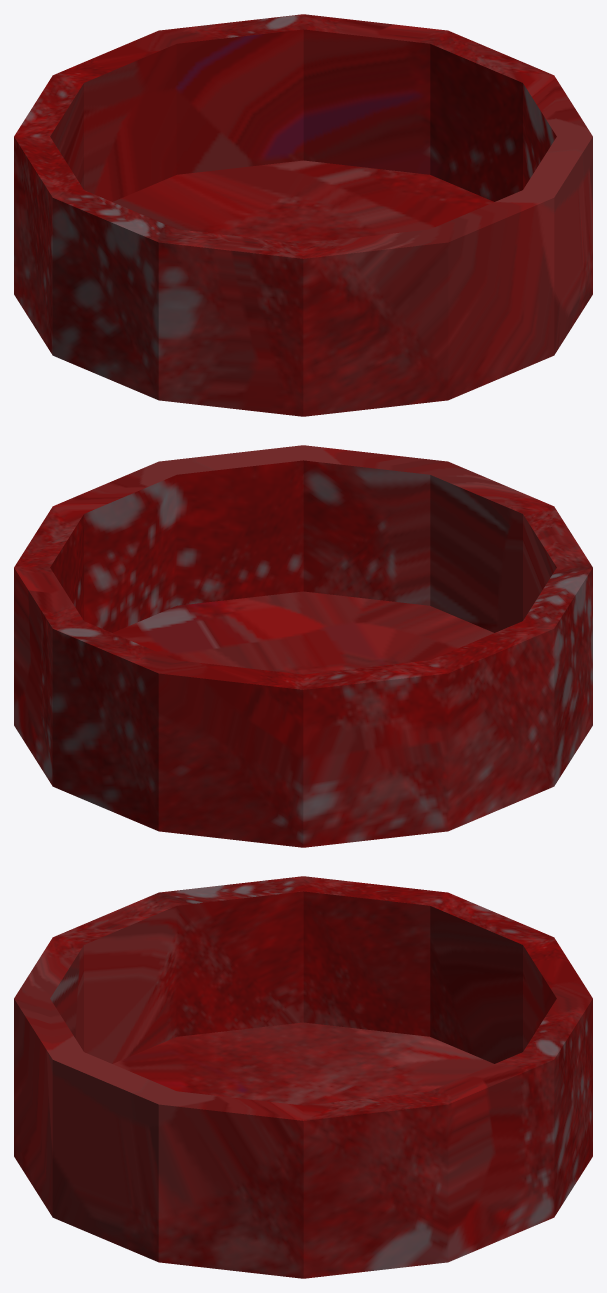
Rendered from SM_Aeropress_Cap.fbx.
3 views of the same model, one above another, from view 1: azimuth 30°, elevation 25°; view 2: azimuth 150°, elevation 25°; view 3: azimuth 270°, elevation 25° (orthographic).
Parts seen in each view (by area): view 1: SM_Aeropress_Cap; view 2: SM_Aeropress_Cap; view 3: SM_Aeropress_Cap.
Part boxes in pixels (x1,y1,x2,y2): SM_Aeropress_Cap: [14, 14, 592, 416]; SM_Aeropress_Cap: [14, 445, 592, 847]; SM_Aeropress_Cap: [14, 876, 592, 1278].
Size of the model in its own units: 200 by 60.19 by 200.
